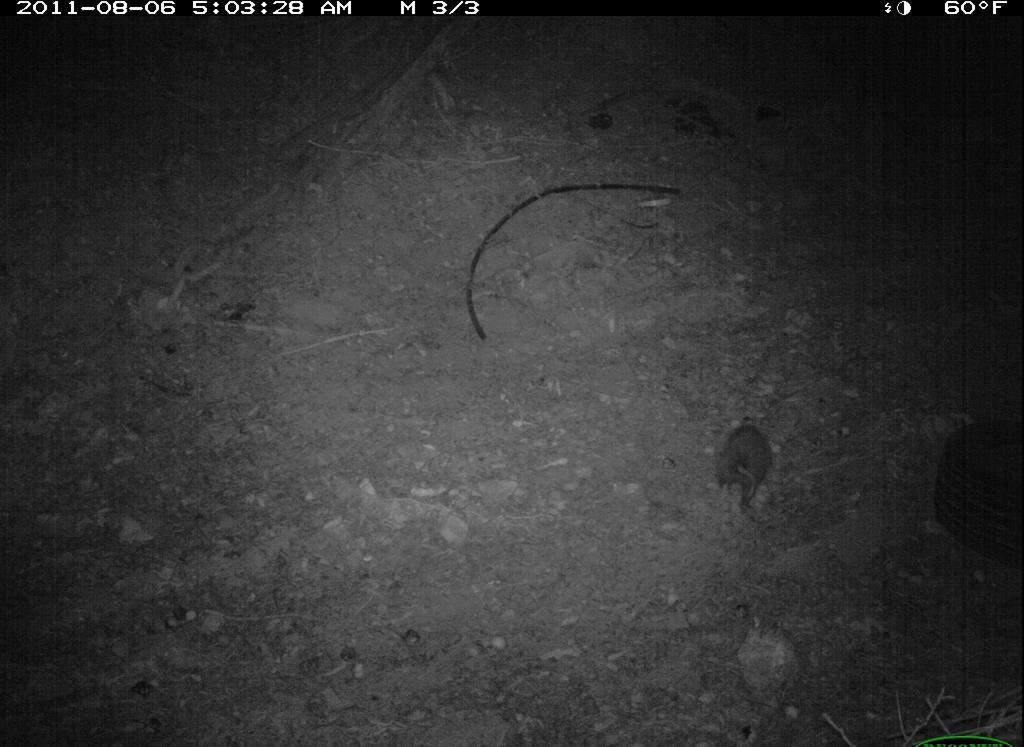opossum: (689, 410, 793, 530)
